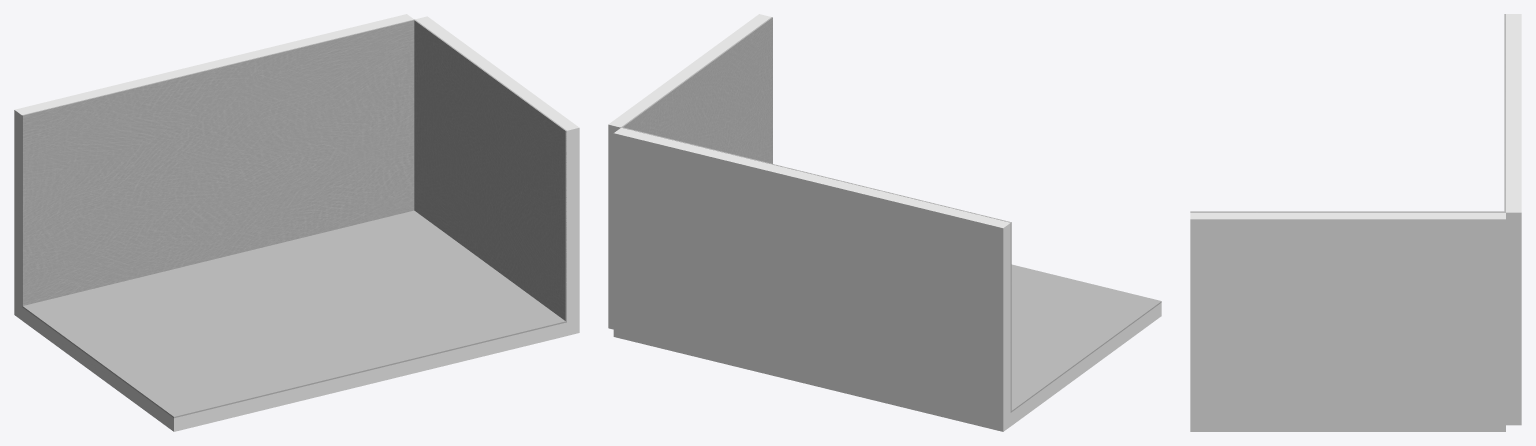
The model's file is Room.fbx.
3 views of the same model, side by side, from view 1: azimuth 30°, elevation 25°; view 2: azimuth 150°, elevation 25°; view 3: azimuth 270°, elevation 25° (orthographic). The views are drawn at different scales.
Visible parts, largest first — view 1: Wall_1__1_, Floor__1_, Wall_2__1_, Floor, Wall_1, Wall_2; view 2: Wall_1, Floor__1_, Wall_2__1_, Wall_2, Floor, Wall_1__1_; view 3: Wall_2, Wall_1, Floor__1_, Wall_1__1_.
Part boxes in pixels (x1,y1,x2,y2): Wall_1__1_: [22, 19, 414, 306]; Floor__1_: [22, 210, 565, 418]; Wall_2__1_: [414, 19, 566, 322]; Floor: [22, 307, 566, 431]; Wall_1: [14, 14, 413, 320]; Wall_2: [415, 16, 579, 335]; Wall_1: [613, 127, 1010, 431]; Floor__1_: [1011, 264, 1161, 412]; Wall_2__1_: [620, 17, 772, 163]; Wall_2: [608, 14, 771, 329]; Floor: [1010, 303, 1161, 426]; Wall_1__1_: [621, 127, 1011, 412]; Wall_2: [1190, 213, 1505, 431]; Wall_1: [1506, 14, 1521, 425]; Floor__1_: [1190, 211, 1504, 212]; Wall_1__1_: [1504, 14, 1505, 212].
Size of the model in its own units: 310 by 150 by 211.
